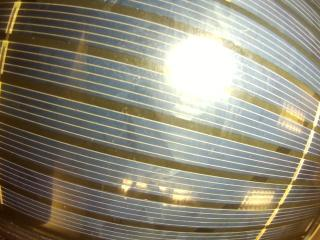solarboard: (0, 0, 320, 240)
